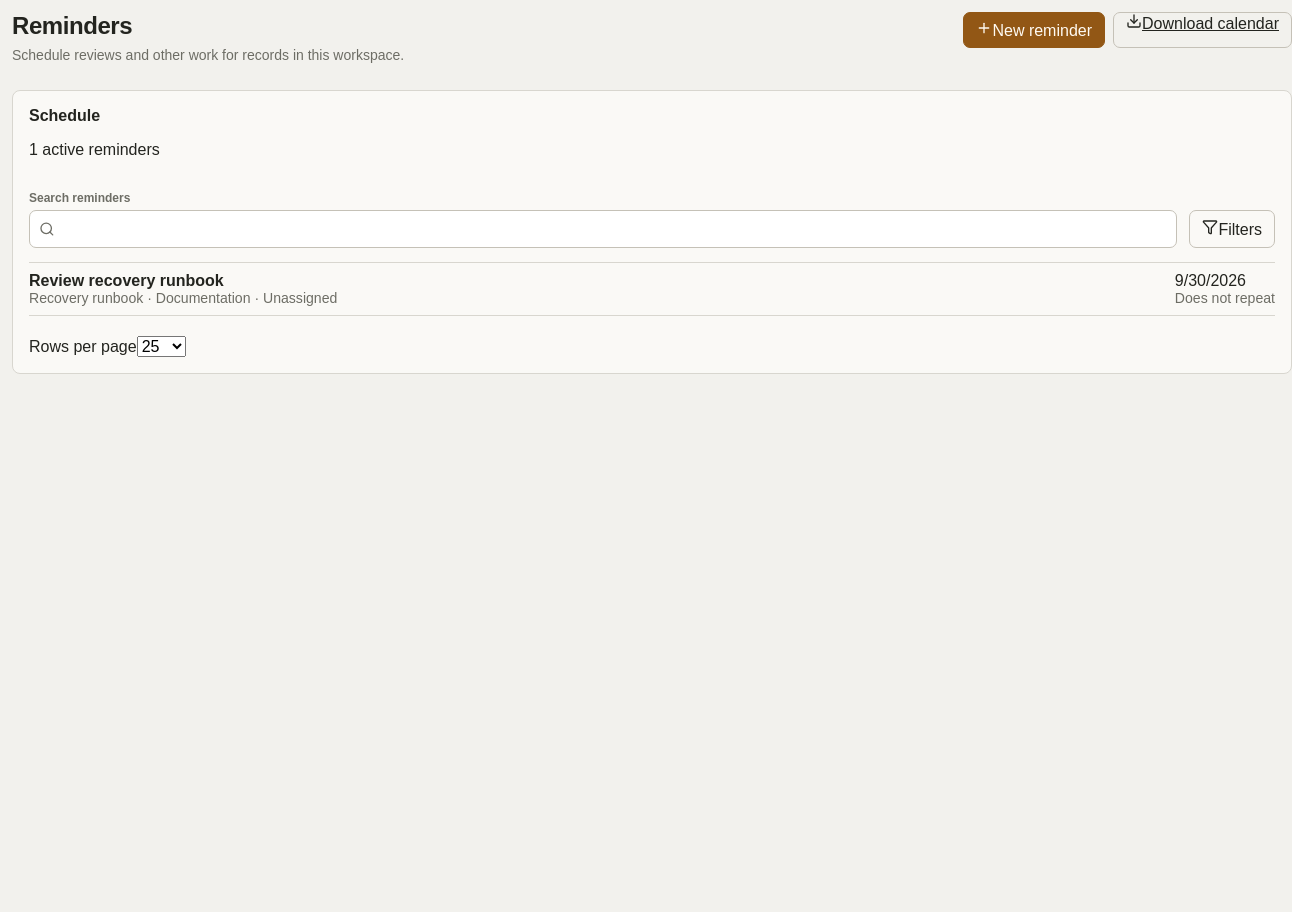
lists reminders and creates one for a searched workspace record
The image size is (1292, 912).
Check: the text "Review recovery runbook" is shown, box [29, 272, 224, 289]
Click the button "New reminder" at (1034, 30), box [963, 12, 1105, 48]
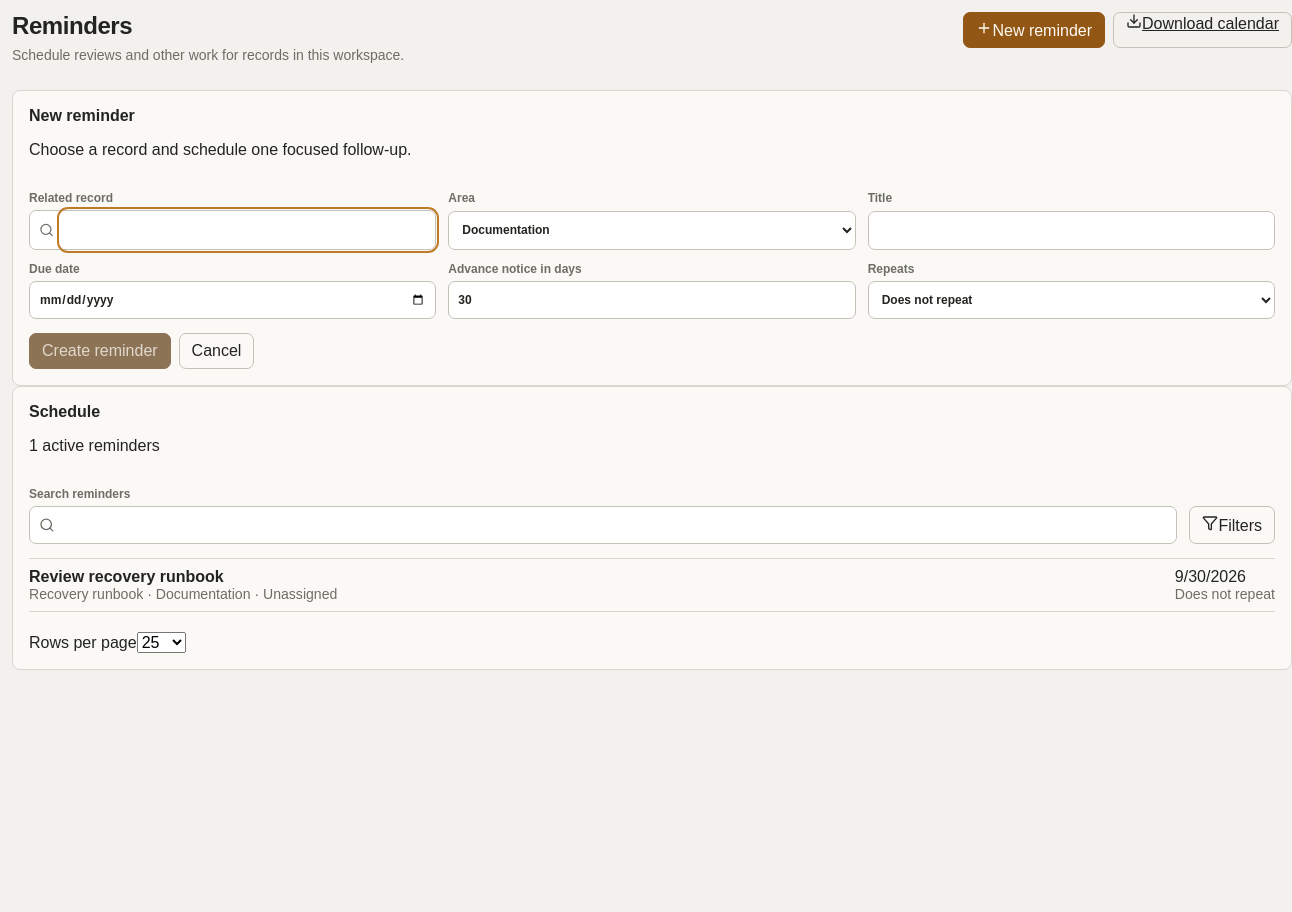
Type "Recovery" into the search field labelled "Related record" at (248, 230), box [61, 211, 435, 249]
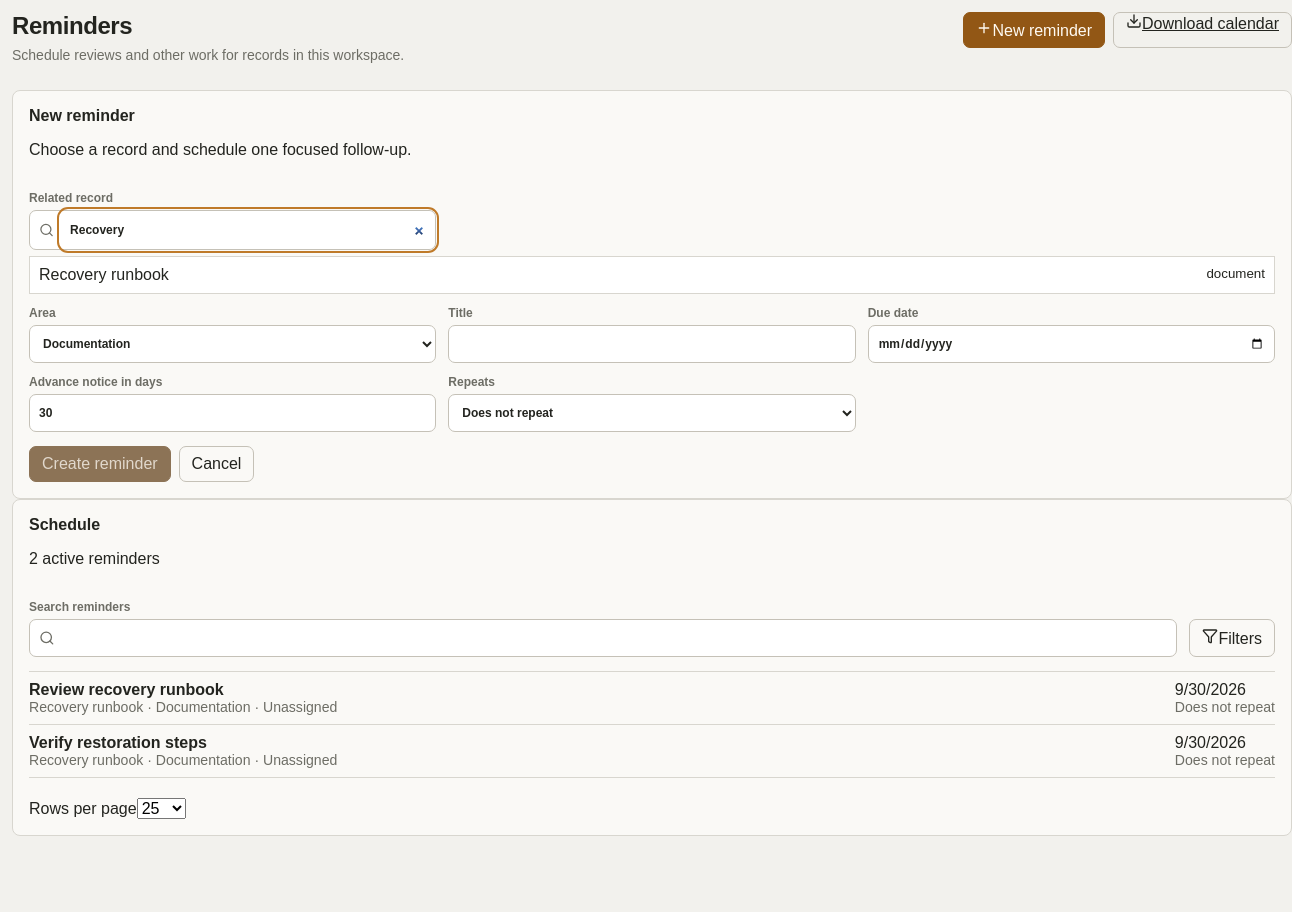
Click the button "Recovery runbook document" at (104, 274), box [30, 257, 1274, 293]
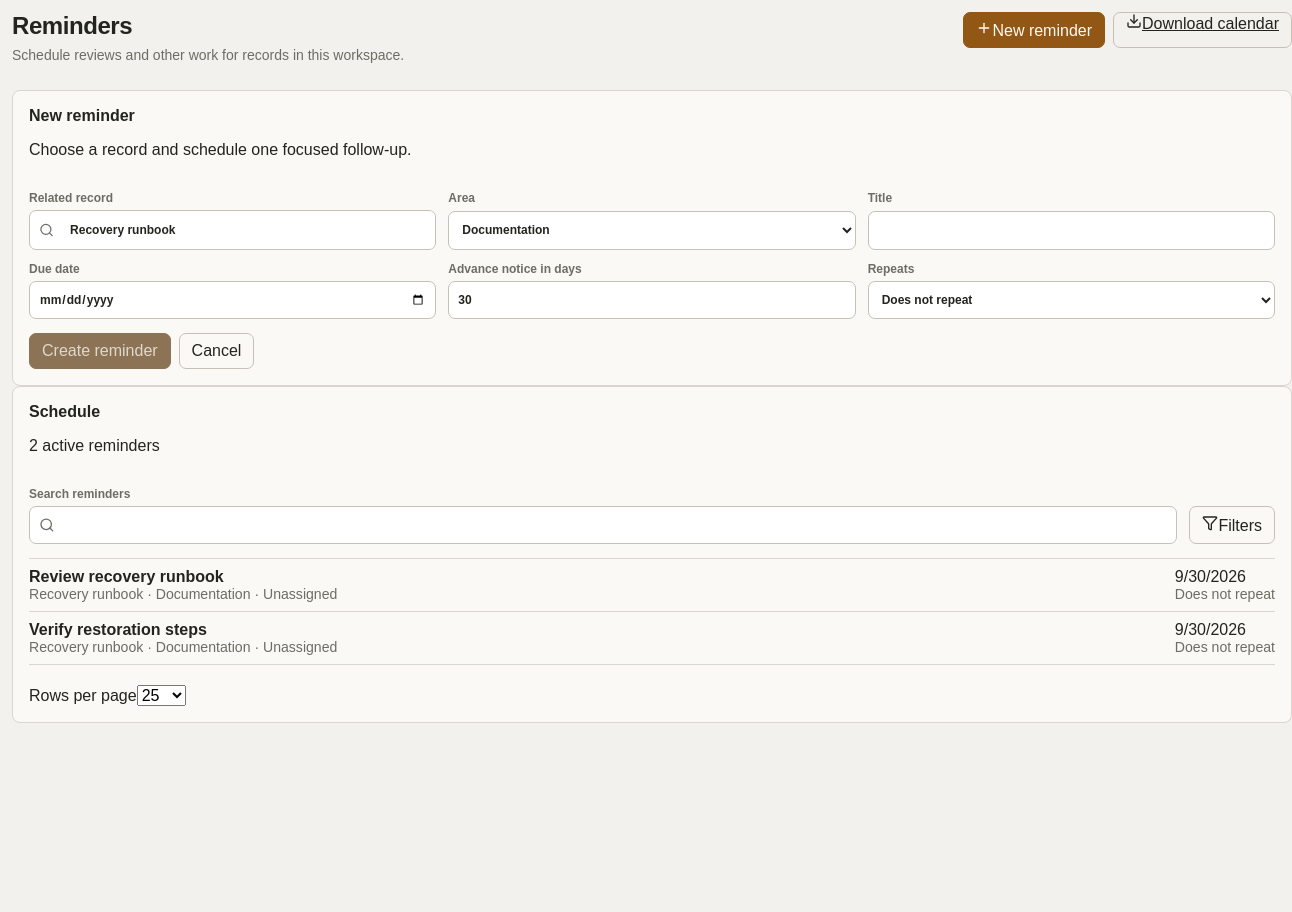
Type "Verify restoration steps" into the field labelled "Title" at (1071, 230), box [868, 211, 1275, 250]
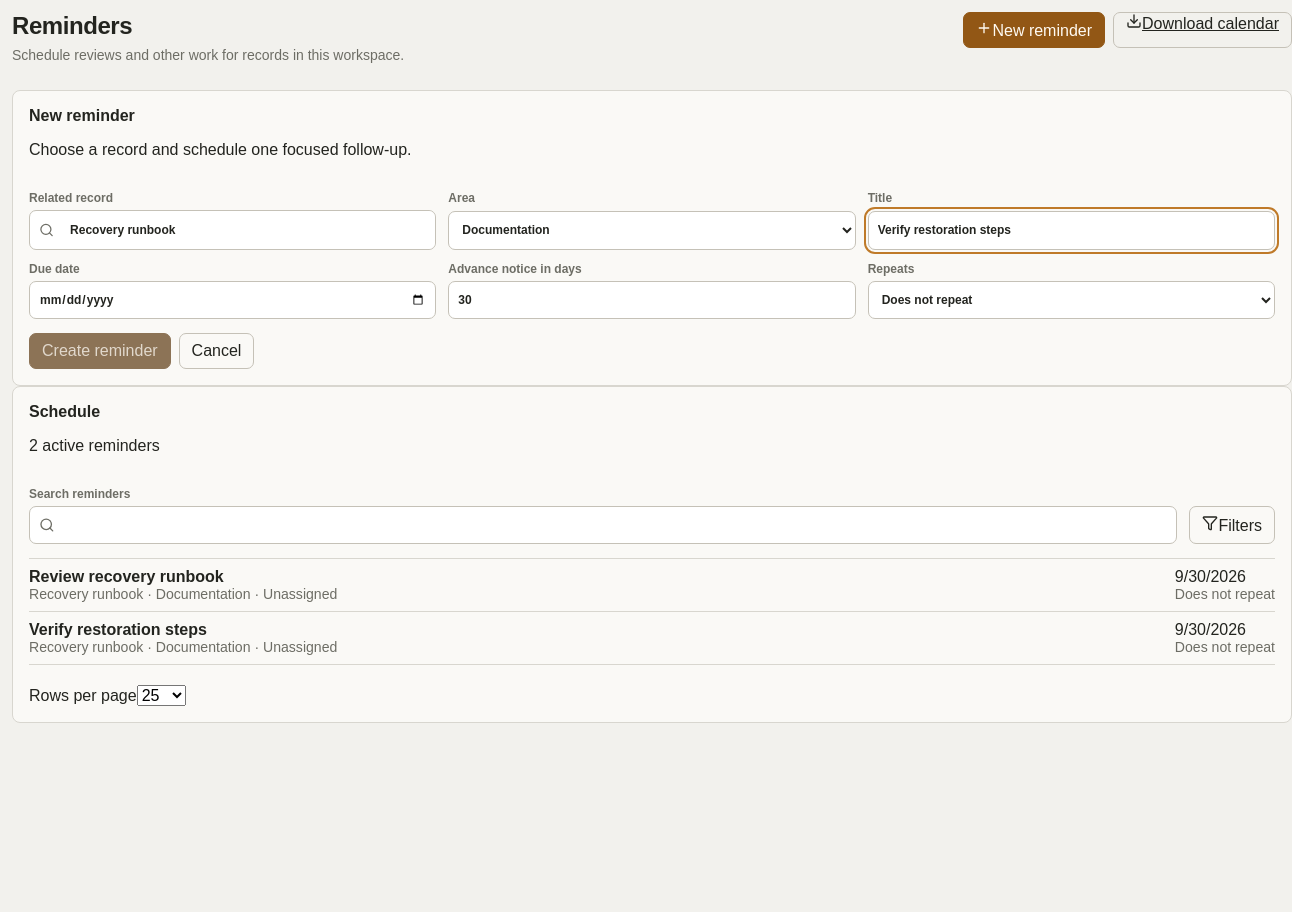
Type "2026-10-31" into the date field labelled "Due date" at (233, 300), box [29, 281, 436, 319]
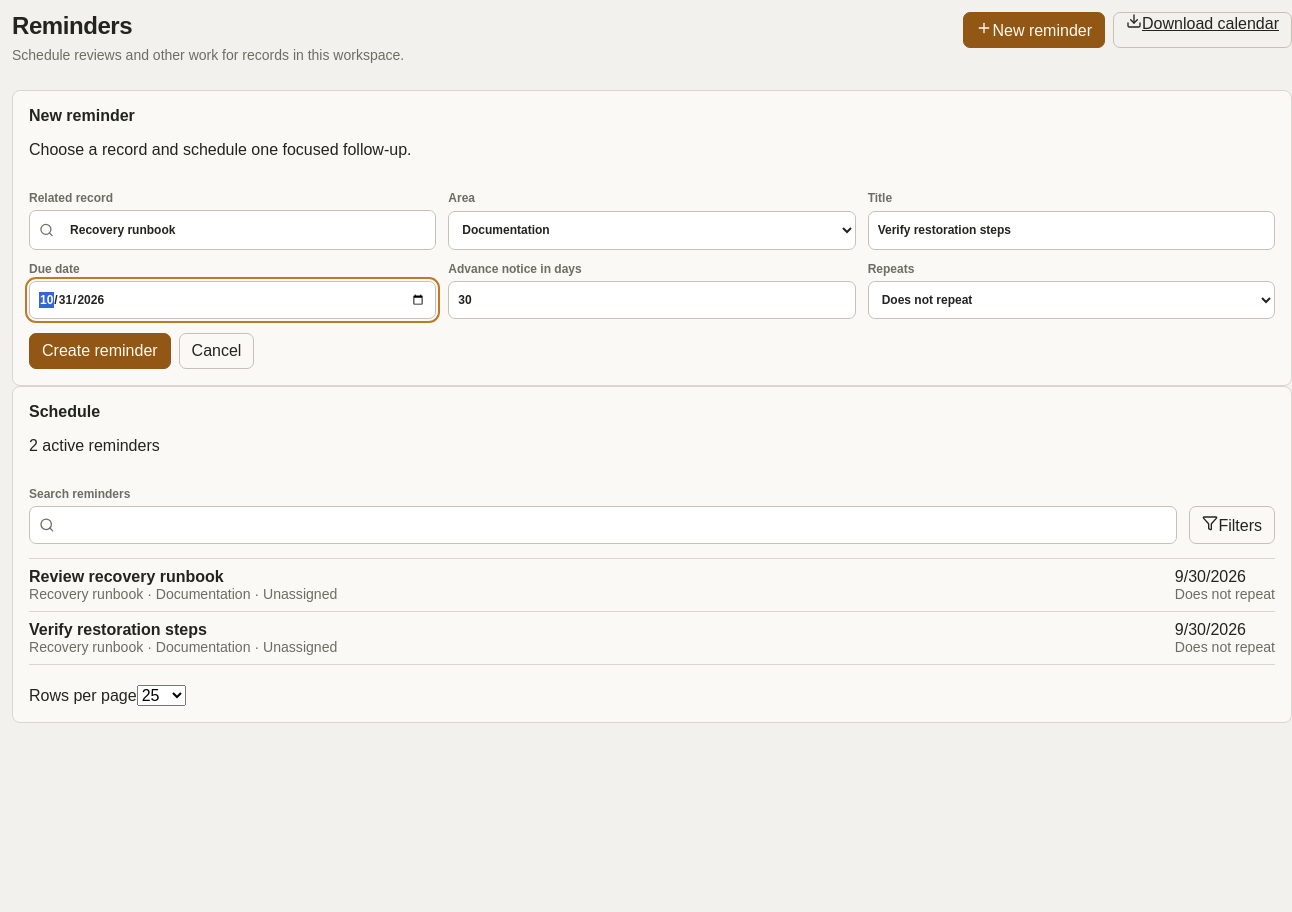
Click the button "Create reminder" at (100, 351), box [29, 333, 171, 369]
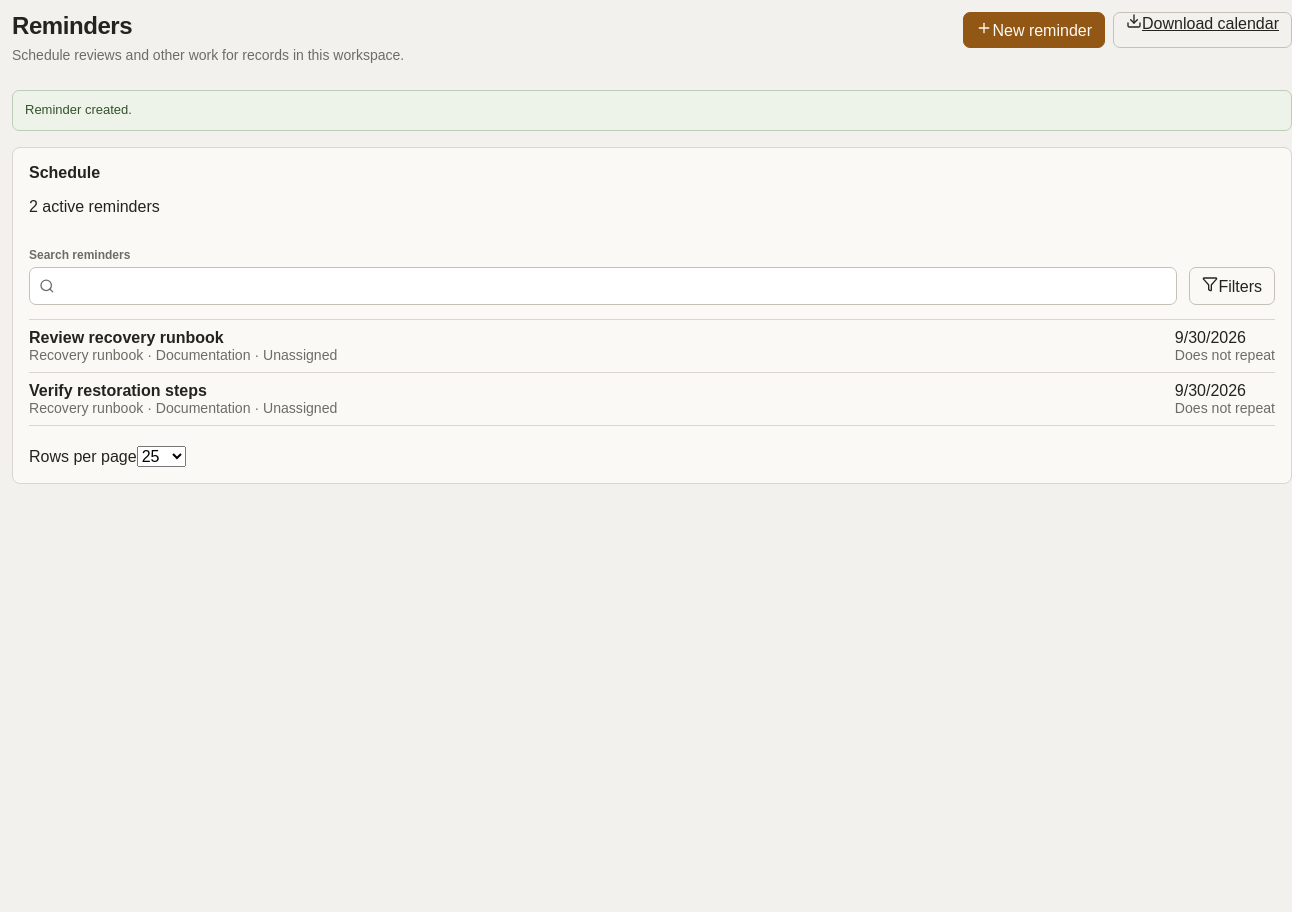
Check: the text "Reminder created." is shown, box [12, 90, 1291, 131]
